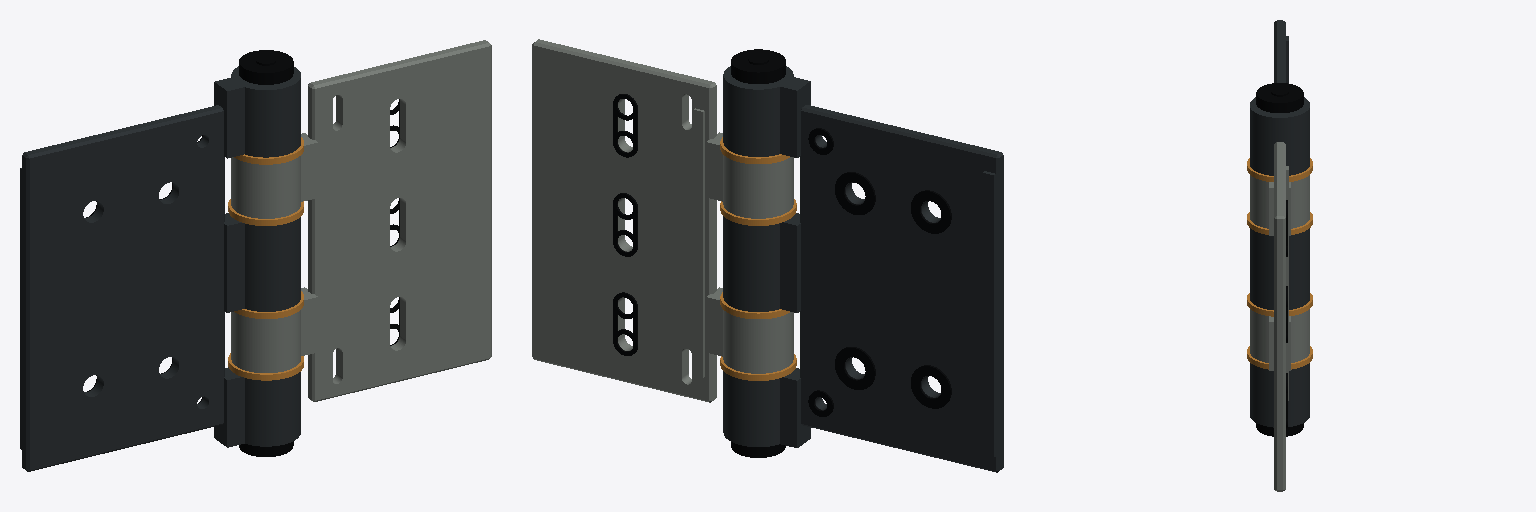
robot.urdf — compact_industrial_barrel_hinge:
<robot name="compact_industrial_barrel_hinge">
  <material name="dark_phosphate_steel">
    <color rgba="0.2 0.22 0.23 1" />
    </material>
  <material name="satin_carried_steel">
    <color rgba="0.48 0.5 0.48 1" />
    </material>
  <material name="dark_burnished_edges">
    <color rgba="0.06 0.065 0.07 1" />
    </material>
  <material name="oiled_bronze_washers">
    <color rgba="0.75 0.52 0.24 1" />
    </material>
  <link name="grounded_leaf">
    <visual name="grounded_plate">
      <geometry>
        <mesh filename="assets/meshes/grounded_leaf_plate.obj" />
        </geometry>
      <material name="dark_phosphate_steel">
        <color rgba="0.2 0.22 0.23 1" />
        </material>
      </visual>
    <visual name="grounded_knuckles">
      <geometry>
        <mesh filename="assets/meshes/grounded_leaf_knuckles.obj" />
        </geometry>
      <material name="dark_phosphate_steel">
        <color rgba="0.2 0.22 0.23 1" />
        </material>
      </visual>
    <visual name="counterbore_rings">
      <geometry>
        <mesh filename="assets/meshes/grounded_counterbore_rings.obj" />
        </geometry>
      <material name="dark_burnished_edges">
        <color rgba="0.06 0.065 0.07 1" />
        </material>
      </visual>
    <visual name="pin_core">
      <geometry>
        <mesh filename="assets/meshes/machined_pin_core.obj" />
        </geometry>
      <material name="dark_burnished_edges">
        <color rgba="0.06 0.065 0.07 1" />
        </material>
      </visual>
    <visual name="shoulder_washers">
      <geometry>
        <mesh filename="assets/meshes/bronze_shoulder_washers.obj" />
        </geometry>
      <material name="oiled_bronze_washers">
        <color rgba="0.75 0.52 0.24 1" />
        </material>
      </visual>
    <collision name="grounded_plate">
      <geometry>
        <mesh filename="assets/meshes/grounded_leaf_plate.obj" />
        </geometry>
      </collision>
    <collision name="grounded_knuckles">
      <geometry>
        <mesh filename="assets/meshes/grounded_leaf_knuckles.obj" />
        </geometry>
      </collision>
    <collision name="counterbore_rings">
      <geometry>
        <mesh filename="assets/meshes/grounded_counterbore_rings.obj" />
        </geometry>
      </collision>
    <collision name="pin_core">
      <geometry>
        <mesh filename="assets/meshes/machined_pin_core.obj" />
        </geometry>
      </collision>
    <collision name="shoulder_washers">
      <geometry>
        <mesh filename="assets/meshes/bronze_shoulder_washers.obj" />
        </geometry>
      </collision>
    </link>
  <link name="carried_leaf">
    <visual name="carried_plate">
      <geometry>
        <mesh filename="assets/meshes/carried_leaf_plate.obj" />
        </geometry>
      <material name="satin_carried_steel">
        <color rgba="0.48 0.5 0.48 1" />
        </material>
      </visual>
    <visual name="carried_knuckles">
      <geometry>
        <mesh filename="assets/meshes/carried_leaf_knuckles.obj" />
        </geometry>
      <material name="satin_carried_steel">
        <color rgba="0.48 0.5 0.48 1" />
        </material>
      </visual>
    <visual name="slot_liners">
      <geometry>
        <mesh filename="assets/meshes/carried_slot_liners.obj" />
        </geometry>
      <material name="dark_burnished_edges">
        <color rgba="0.06 0.065 0.07 1" />
        </material>
      </visual>
    <collision name="carried_plate">
      <geometry>
        <mesh filename="assets/meshes/carried_leaf_plate.obj" />
        </geometry>
      </collision>
    <collision name="carried_knuckles">
      <geometry>
        <mesh filename="assets/meshes/carried_leaf_knuckles.obj" />
        </geometry>
      </collision>
    <collision name="slot_liners">
      <geometry>
        <mesh filename="assets/meshes/carried_slot_liners.obj" />
        </geometry>
      </collision>
    </link>
  <joint name="pin_axis" type="revolute">
    <parent link="grounded_leaf" />
    <child link="carried_leaf" />
    <axis xyz="0 0 1" />
    <limit effort="25" velocity="3" lower="0" upper="1.8" />
    </joint>
  </robot>

--- Render facts (derived) ---
The picture shows the robot from 3 angles, left to right: view 1: azimuth 30°, elevation 25°; view 2: azimuth 150°, elevation 25°; view 3: azimuth 270°, elevation 25°; orthographic projection.
Model compact_industrial_barrel_hinge with 2 links and 1 joints (1 revolute), rooted at grounded_leaf, posed all joints at 0.
Visible links, largest first — view 1: grounded_leaf, carried_leaf; view 2: grounded_leaf, carried_leaf; view 3: grounded_leaf, carried_leaf.
Link boxes in pixels (x1,y1,x2,y2): grounded_leaf: (20,50,303,471); carried_leaf: (231,40,491,401); grounded_leaf: (720,49,1003,472); carried_leaf: (532,39,793,402); grounded_leaf: (1247,20,1312,436); carried_leaf: (1250,142,1309,491).
Bounding box of the posed robot: 0.246 × 0.0348 × 0.196 m (x, y, z).
8 mesh visuals loaded from 8 distinct referenced files (8 OBJ).
